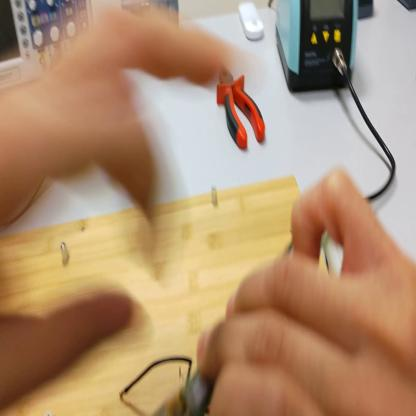hand: (2, 12, 234, 411), (202, 174, 416, 414)
low voltage board: (120, 240, 341, 416)
oscilloscope: (2, 3, 93, 92)
pliers: (218, 64, 265, 146)
socket: (359, 2, 374, 20), (398, 1, 415, 11)
welder station: (276, 2, 360, 94)
working area: (2, 177, 303, 414)
